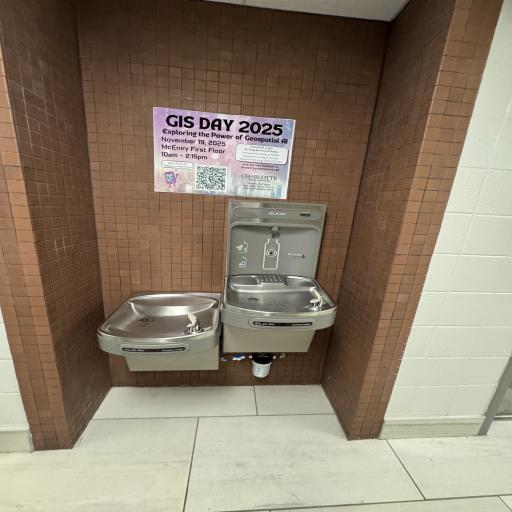sign: (150, 104, 295, 196)
water fountain: (221, 197, 329, 387), (100, 283, 219, 383)
